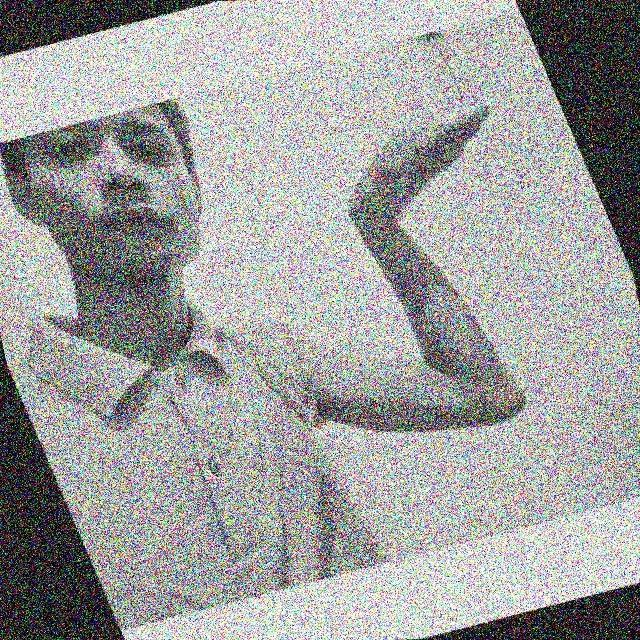Z: (343, 98, 531, 432)
